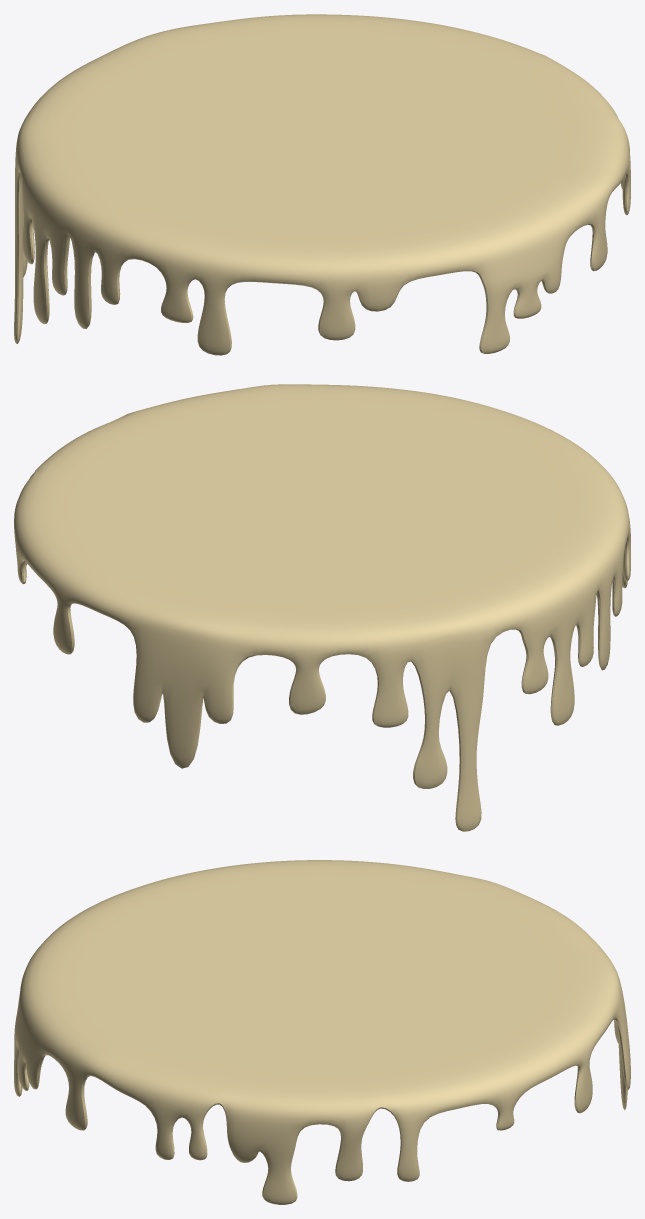
The model's file is cakeGlazeMilk.glb.
3 renders of one model, top to bottom at view 1: azimuth 30°, elevation 25°; view 2: azimuth 150°, elevation 25°; view 3: azimuth 270°, elevation 25°, orthographic. The views are drawn at different scales.
Parts seen in each view (by area): view 1: Cylinder.004; view 2: Cylinder.004; view 3: Cylinder.004.
Part boxes in pixels (bbox=[...]): Cylinder.004: bbox=[14, 14, 630, 355]; Cylinder.004: bbox=[14, 384, 630, 831]; Cylinder.004: bbox=[14, 860, 630, 1204].
Bounding box in the file's own units: 2.02 × 0.7643 × 2.08.
